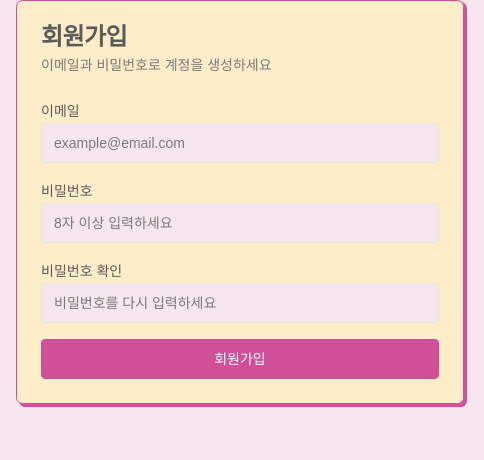
SignupForm › 회원가입 실패 시 에러 메시지를 표시한다
Type "test@example.com" into the field labelled "이메일".
click(240, 143); type("test@example.com")  # box [41,123,439,163]
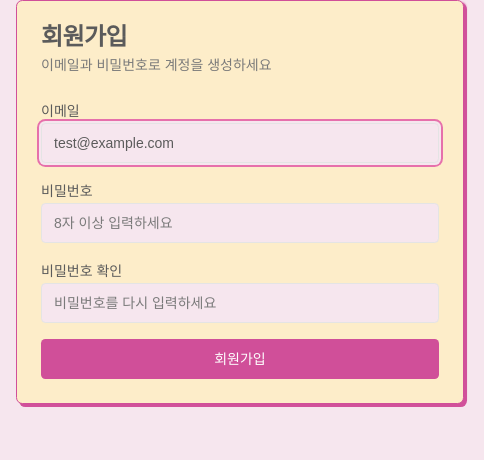
Type "password123" into the password field labelled "비밀번호".
click(240, 223); type("password123")  # box [41,203,439,243]
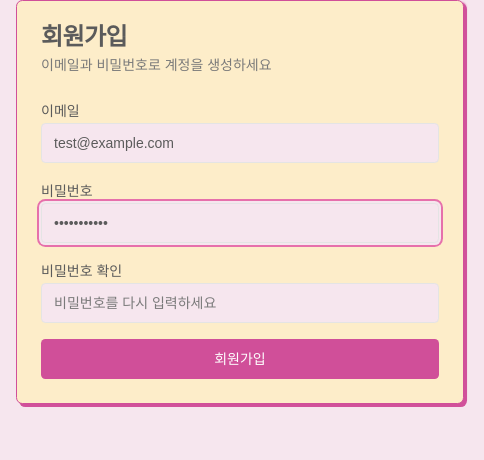
Type "password123" into the password field labelled "비밀번호 확인".
click(240, 303); type("password123")  # box [41,283,439,323]
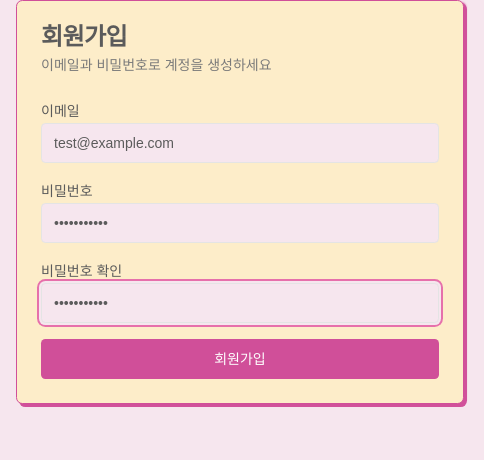
Click the button "회원가입".
click(240, 359)  # box [41,339,439,379]
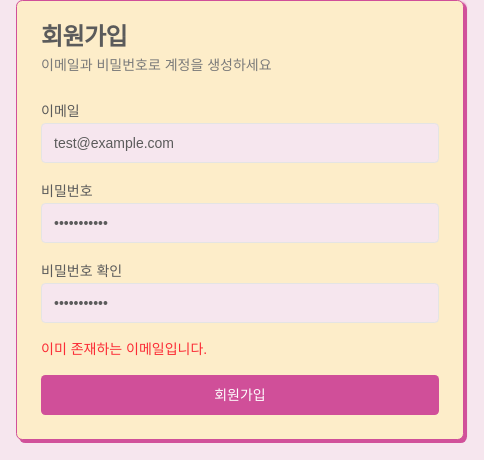
expect the text "이미 존재하는 이메일입니다." is shown: met, box [41,341,207,357]
